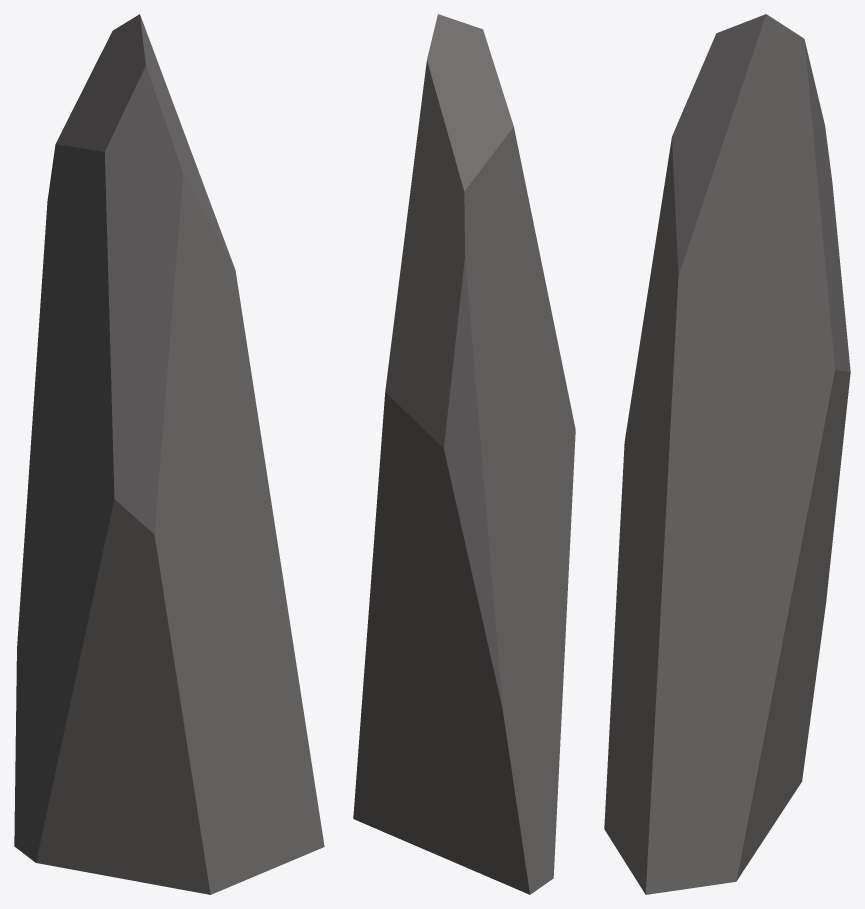
Rendered from Rock_Sharp_m_01.fbx.
3 renders of one model, left to right at view 1: azimuth 30°, elevation 25°; view 2: azimuth 150°, elevation 25°; view 3: azimuth 270°, elevation 25°, orthographic. The views are drawn at different scales.
Parts seen in each view (by area): view 1: Rock_Sharp_m_01; view 2: Rock_Sharp_m_01; view 3: Rock_Sharp_m_01.
Part boxes in pixels (left/top/right/bottom): Rock_Sharp_m_01: left=14, top=14, right=324, bottom=894; Rock_Sharp_m_01: left=353, top=14, right=575, bottom=894; Rock_Sharp_m_01: left=604, top=14, right=850, bottom=894.
Bounding box in the file's own units: 50.84 × 171 × 46.53.
